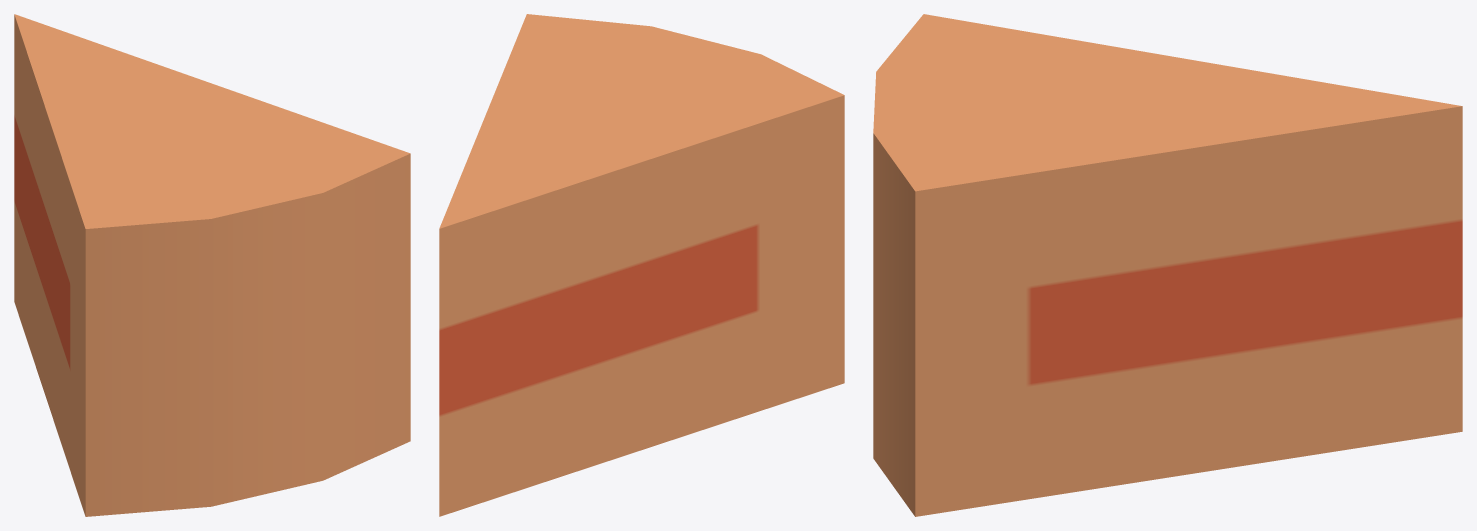
Rendered from cake5.obj.
The picture shows the model from 3 angles, left to right: view 1: azimuth 30°, elevation 25°; view 2: azimuth 150°, elevation 25°; view 3: azimuth 270°, elevation 25°; orthographic projection. The views are drawn at different scales.
Parts seen in each view (by area): view 1: cake7:pCylinder1 group71, group71 cake7:polySurface1; view 2: group71 cake7:polySurface1, cake7:pCylinder1 group71; view 3: group71 cake7:polySurface2, cake7:pCylinder1 group71.
Boxes of the visible parts, x1,y1,x2,y2 form: cake7:pCylinder1 group71: [14, 14, 410, 516]; group71 cake7:polySurface1: [14, 15, 85, 516]; group71 cake7:polySurface1: [439, 95, 844, 516]; cake7:pCylinder1 group71: [439, 14, 844, 228]; group71 cake7:polySurface2: [915, 106, 1462, 516]; cake7:pCylinder1 group71: [873, 14, 1462, 516].
Bounding box in the file's own units: 10.89 × 9.32 × 15.29.
